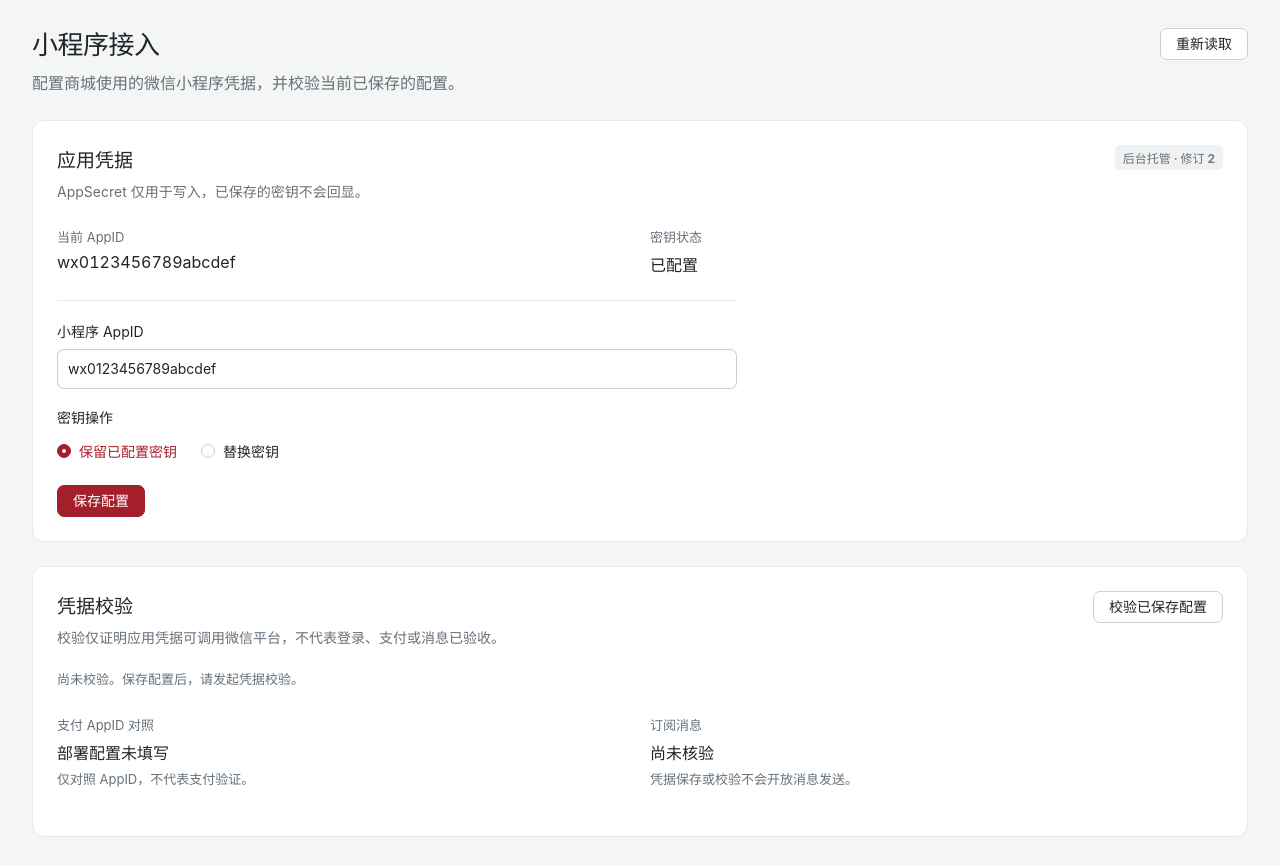
Test: locks a failed platform check until configuration is read again
Click the button "校验已保存配置" at (1158, 607), box [1093,591,1223,623]
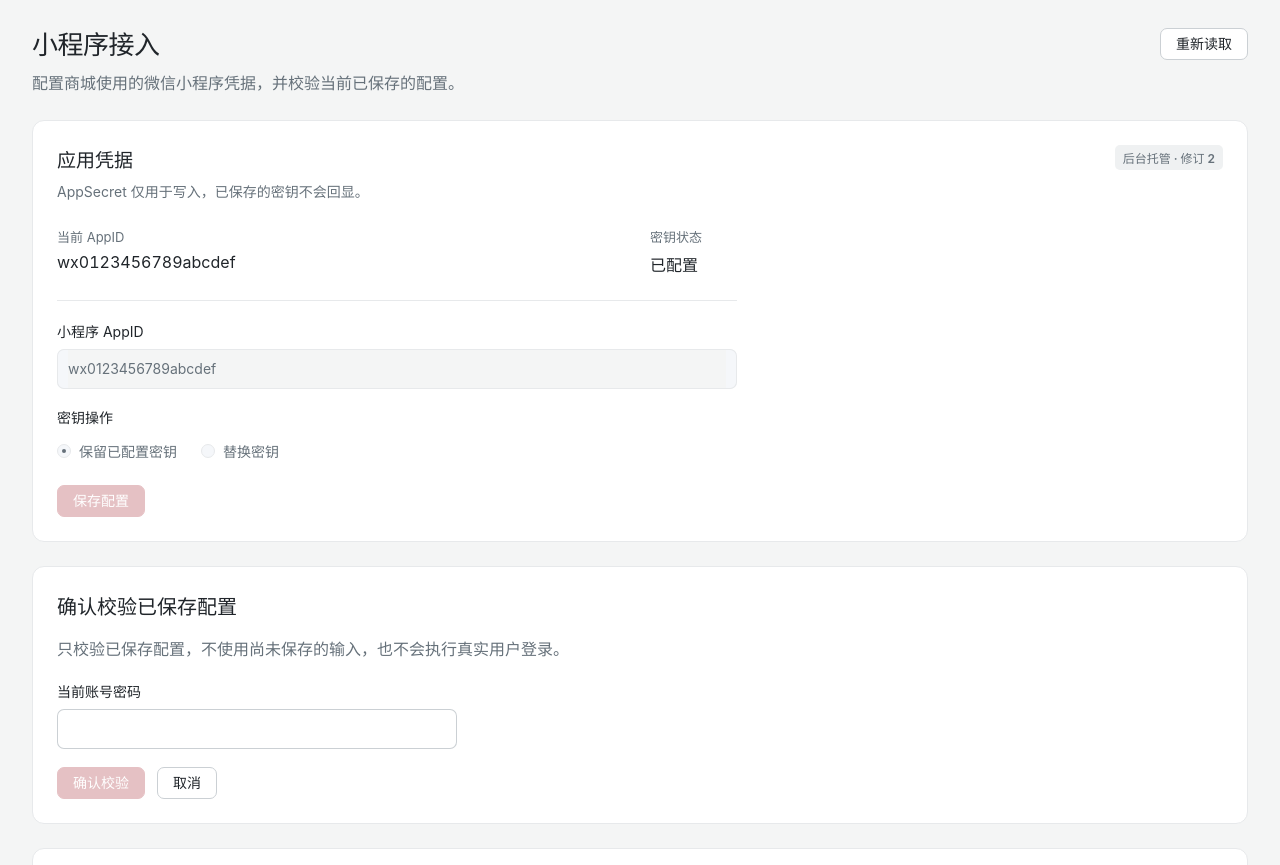
Type "synthetic-password" into the password field with id "wechat-confirm-password" at (257, 729), box [68,710,446,748]
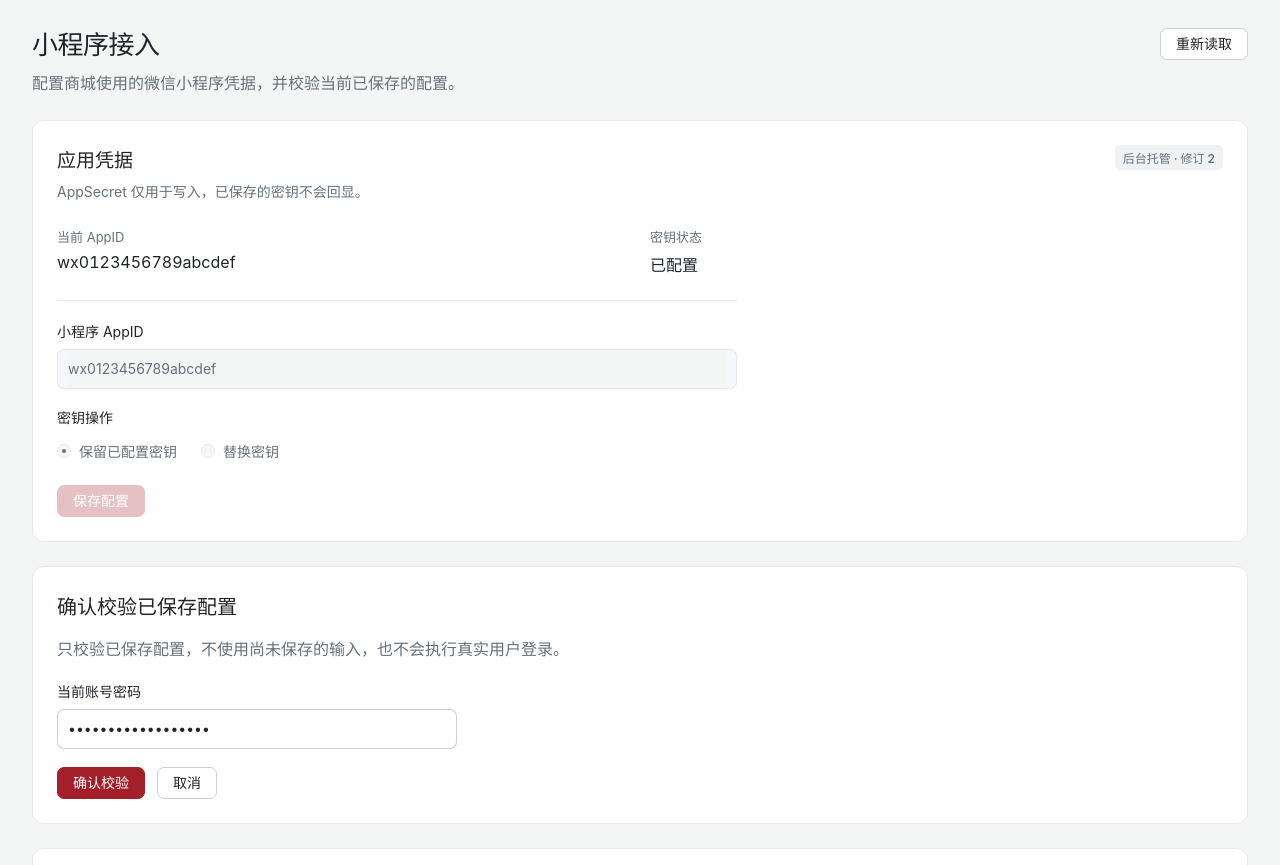
Submit the form named "二次确认", box [32,566,1248,824]
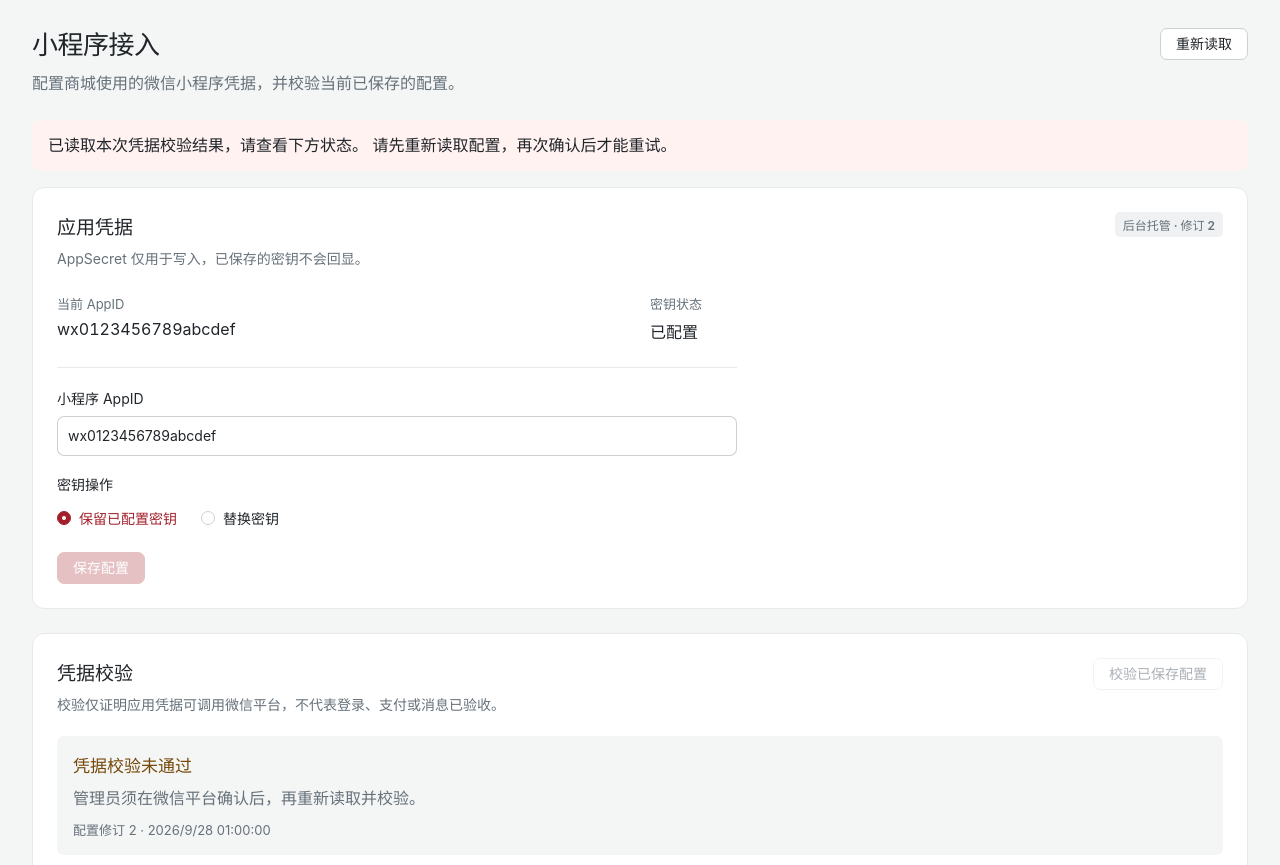
Now the button "校验已保存配置" is disabled, box [1093,658,1223,690]
Now the text "管理员须在微信平台确认" is shown, box [73,788,425,808]
Click the button "重新读取" at (1204, 44), box [1160,28,1248,60]
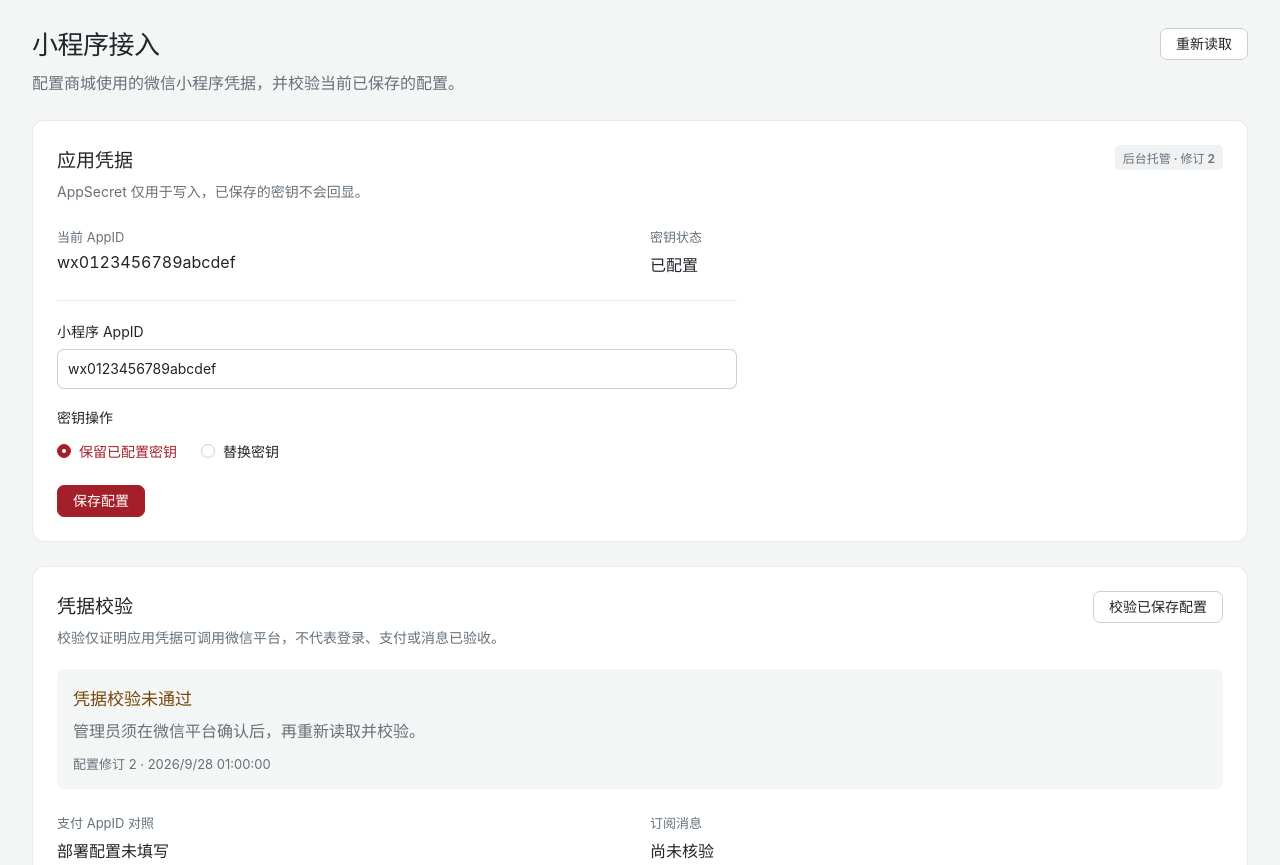
Now the button "校验已保存配置" is enabled, box [1093,591,1223,623]
